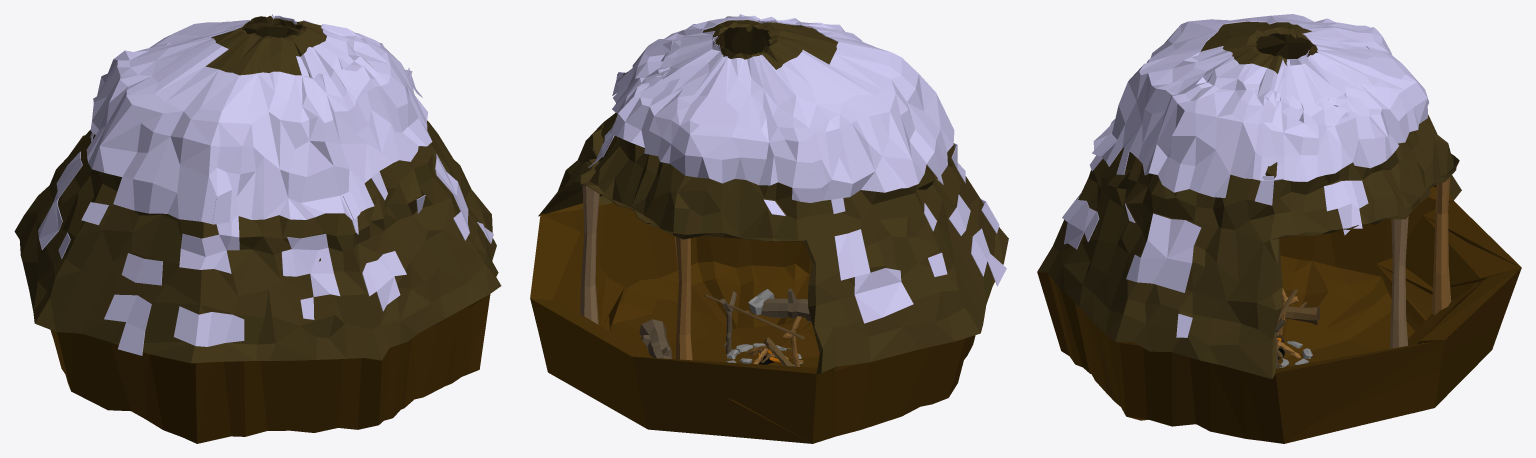
Rendered from SNOW house with snow.fbx.
The picture shows the model from 3 angles, left to right: view 1: azimuth 30°, elevation 25°; view 2: azimuth 150°, elevation 25°; view 3: azimuth 270°, elevation 25°; orthographic projection.
Parts seen in each view (by area): view 1: Sphere; view 2: Sphere, Cylinder, Cylinder.001, Cylinder.010; view 3: Sphere, Cylinder, Cylinder.010, Cylinder.001.
Boxes of the visible parts, <box> form: Sphere: <box>14,14,501,443</box>; Sphere: <box>530,14,1008,443</box>; Cylinder: <box>580,185,599,324</box>; Cylinder.001: <box>639,288,811,358</box>; Cylinder.010: <box>674,236,692,360</box>; Sphere: <box>1037,14,1521,443</box>; Cylinder: <box>1390,216,1408,348</box>; Cylinder.010: <box>1432,177,1450,315</box>; Cylinder.001: <box>1285,302,1319,325</box>.
Size of the model in its own units: 866 by 627 by 817.
